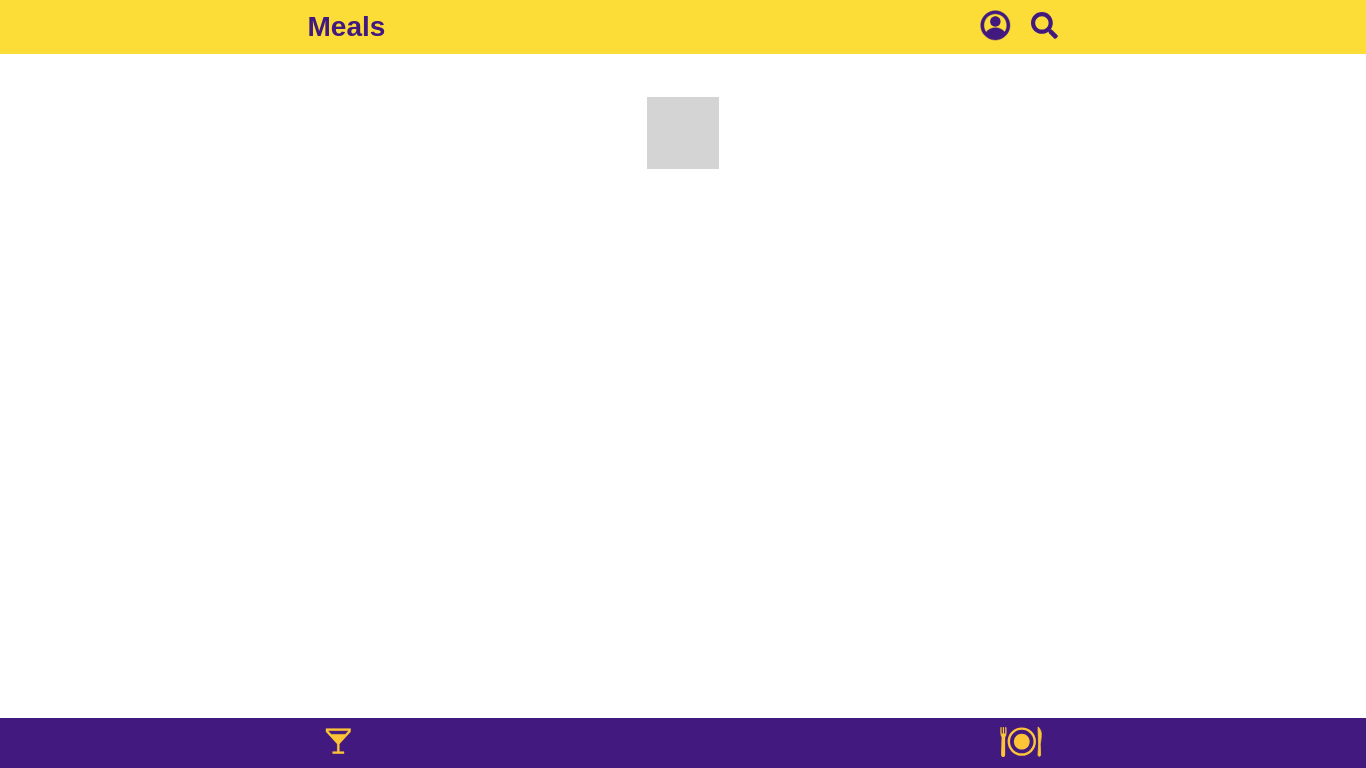
Testando o componente Header através da página <Recipes /> › Verifica se ao clicar no btn Search a barra é mostrada
Click the button with test id "search-top-btn" at (1045, 27), box x1=1031 y1=12 x2=1058 y2=42
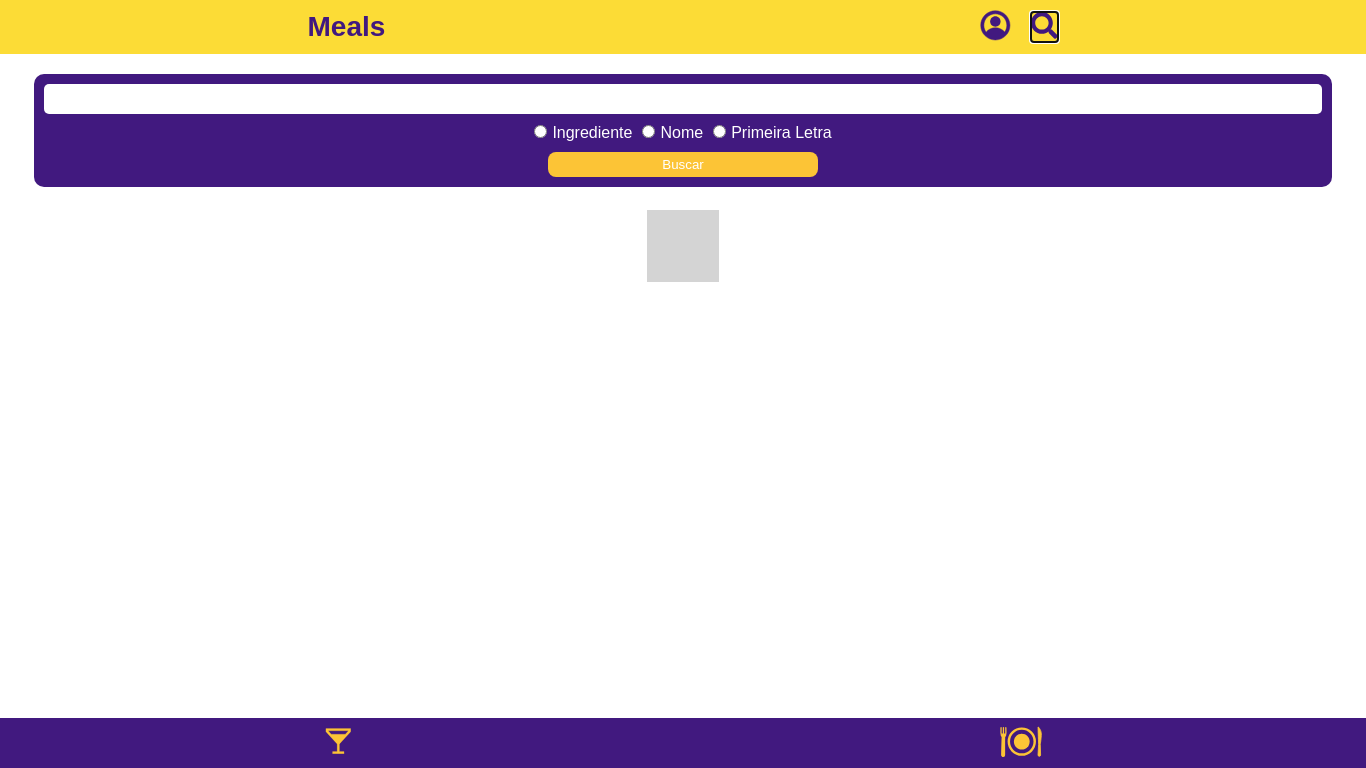
expect the field with test id "search-input" is shown: met, box x1=44 y1=84 x2=1322 y2=114
